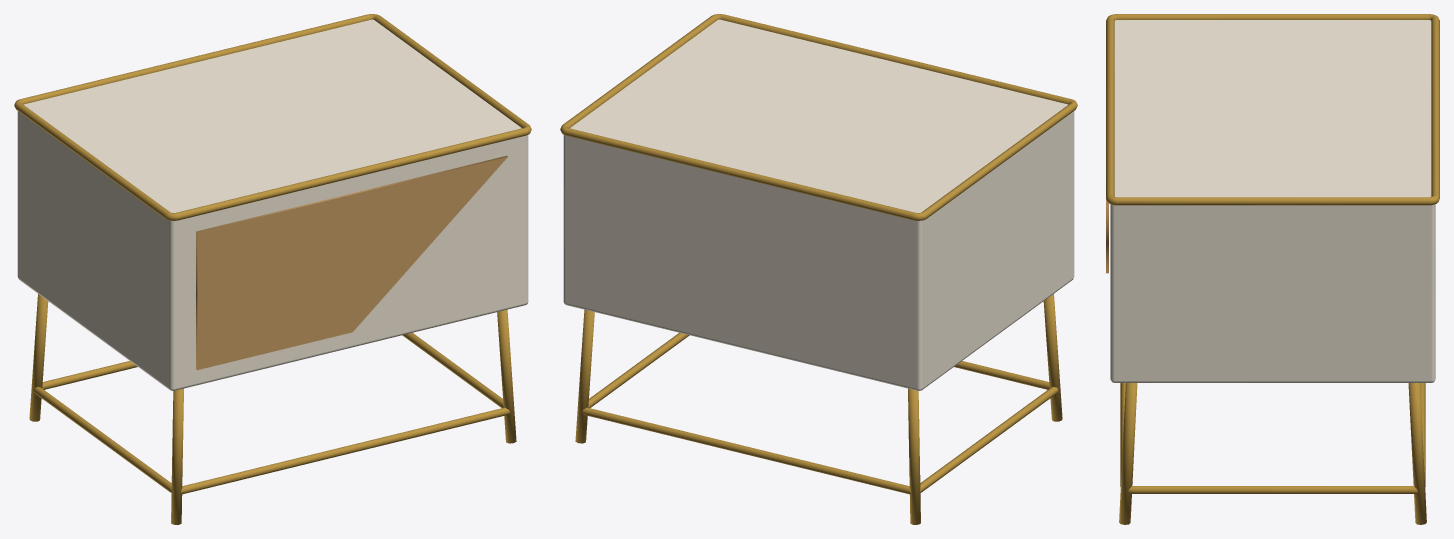
Rendered from mustang-bed-set-with-wardrobe--night.glb.
3 renders of one model, left to right at view 1: azimuth 30°, elevation 25°; view 2: azimuth 150°, elevation 25°; view 3: azimuth 270°, elevation 25°, orthographic. The views are drawn at different scales.
Visible parts, largest first — view 1: body, mirrorwedge, rimtop, rail, leg-1-1, leg1-1, leg-11; view 2: body, rimtop, rail, leg-11, leg11, leg-1-1; view 3: body, rimtop, rail, leg1-1, leg11.
Part boxes in pixels (x1,y1,x2,y2): body: (17,19,528,390); mirrorwedge: (196,155,507,370); rimtop: (14,14,531,220); rail: (33,333,509,494); leg-1-1: (171,388,183,524); leg1-1: (497,309,516,443); leg-11: (29,294,48,421); body: (563,19,1074,390); rimtop: (560,14,1077,220); rail: (582,333,1058,494); leg-11: (908,388,920,524); leg11: (575,309,594,443); leg-1-1: (1043,294,1062,421); body: (1110,20,1435,382); rimtop: (1106,14,1439,205); rail: (1120,383,1425,493); leg1-1: (1119,383,1137,524); leg11: (1408,383,1426,524).
Bounding box in the file's own units: 0.612 × 0.5065 × 0.462.
